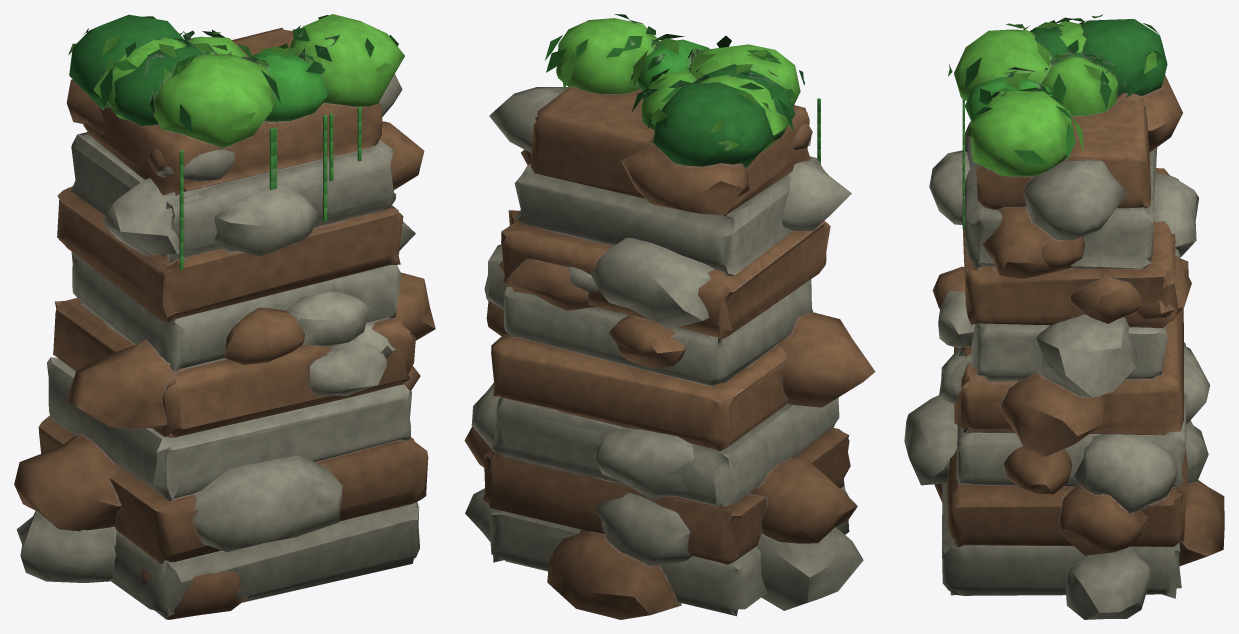
File: tf_cliff.glb
The picture shows the model from 3 angles, left to right: view 1: azimuth 30°, elevation 25°; view 2: azimuth 150°, elevation 25°; view 3: azimuth 270°, elevation 25°; orthographic projection. The views are drawn at different scales.
Visible parts, largest first — view 1: tf_cliff; view 2: tf_cliff; view 3: tf_cliff.
Part boxes in pixels (x1,y1,x2,y2): tf_cliff: (14,14,435,619); tf_cliff: (464,14,875,619); tf_cliff: (904,14,1224,619).
Bounding box in the file's own units: 14.45 × 18.79 × 10.82.
5 materials, 5 textured.
